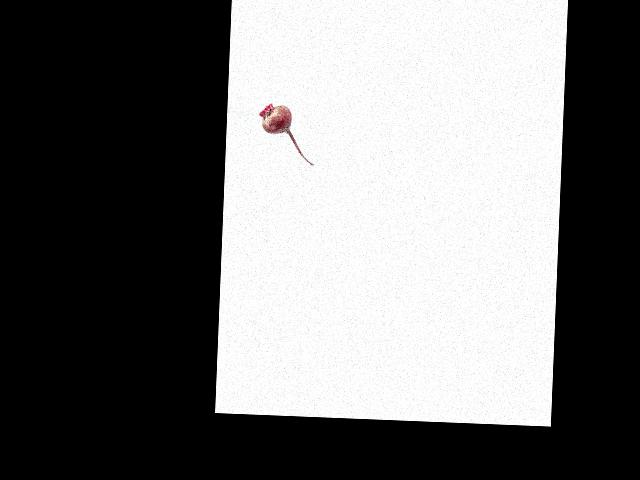beet: (257, 103, 316, 165)
